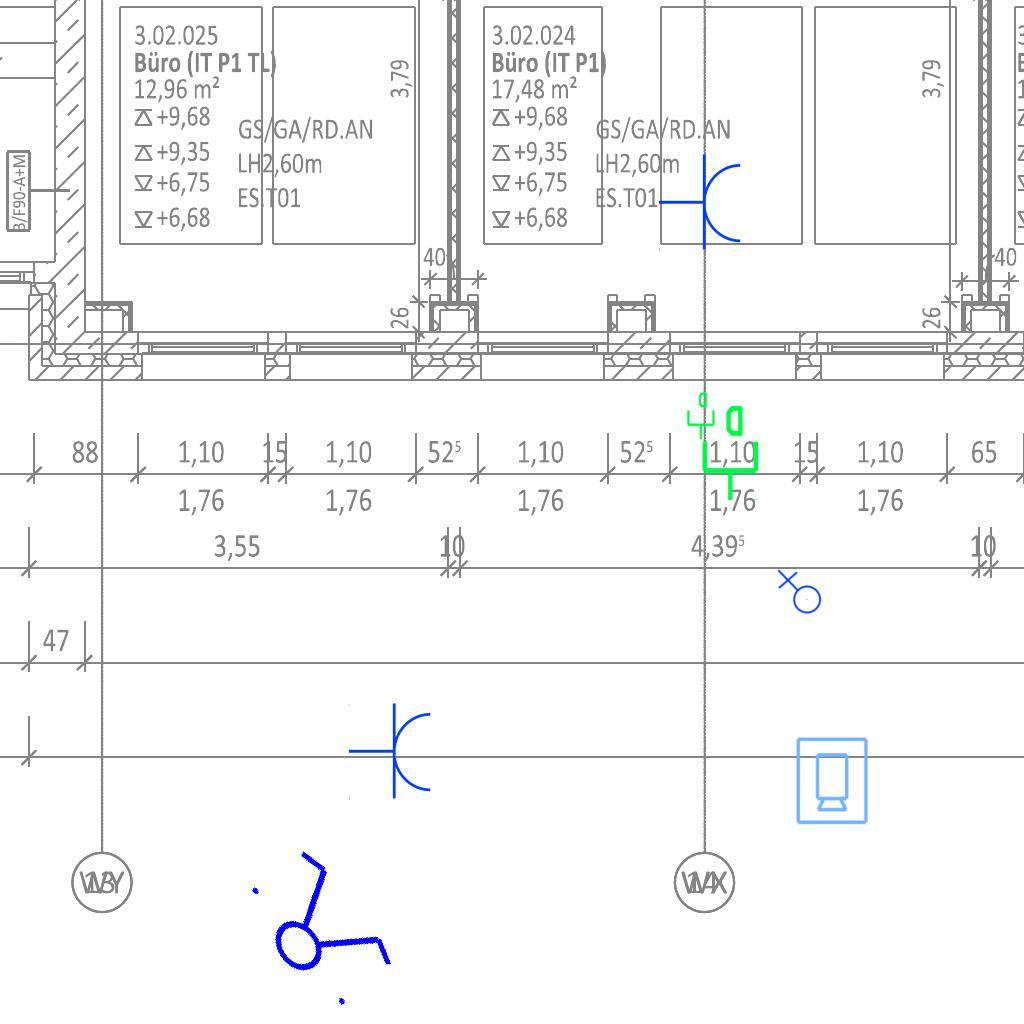Datenanschluss_einfach: (694, 403, 763, 503), (683, 391, 717, 441)
Elektroanschluss_allgemein_230V_Geraeteanschlussdose_230V: (775, 569, 822, 618)
KFO_Kamera_mit_Festobjektiv: (793, 735, 870, 826)
Schukosteckdose_einfach: (348, 702, 435, 802), (658, 153, 745, 253)
Serienschalter: (228, 833, 408, 1024)
